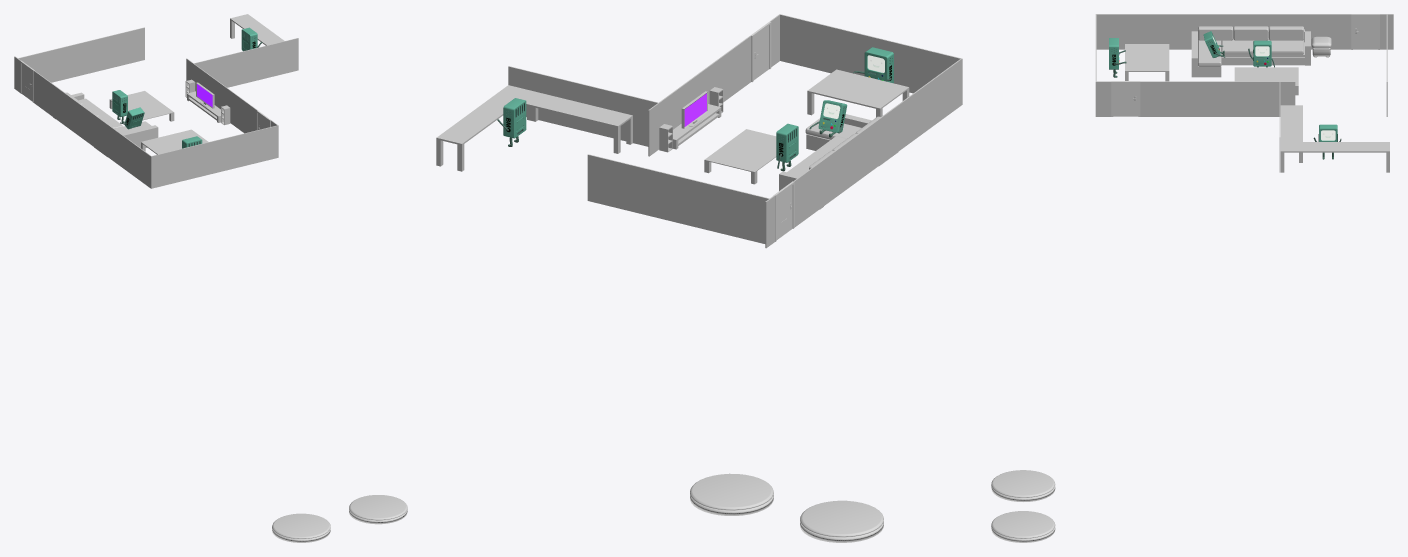
The model's file is Appartement - Back-up.glb.
The picture shows the model from 3 angles, left to right: view 1: azimuth 30°, elevation 25°; view 2: azimuth 150°, elevation 25°; view 3: azimuth 270°, elevation 25°; orthographic projection. The views are drawn at different scales.
Parts seen in each view (by area): view 1: Mur, Plaque tournante, Plaque tournante.001, Canape, Table basse, Table, Bureau 02; view 2: Mur, Table, Plaque tournante, Plaque tournante.001, Bureau 02, Table basse, Bureau 01, Canape, Куб.016, Куб.022, Куб.010, Porte (+4 smaller); view 3: Mur, Canape, Plaque tournante.001, Plaque tournante, Bureau 02, Table, Table basse, Bureau 01, Porte 02, Porte, Куб.010.
Part boxes in pixels (bbox=[...]): Mur: bbox=[14, 27, 298, 188]; Plaque tournante: bbox=[272, 513, 330, 538]; Plaque tournante.001: bbox=[349, 495, 407, 520]; Canape: bbox=[53, 92, 158, 157]; Table basse: bbox=[109, 91, 174, 121]; Table: bbox=[141, 129, 208, 154]; Bureau 02: bbox=[230, 14, 284, 45]; Mur: bbox=[508, 14, 962, 248]; Table: bbox=[807, 69, 909, 117]; Plaque tournante: bbox=[800, 500, 883, 537]; Plaque tournante.001: bbox=[690, 473, 773, 510]; Bureau 02: bbox=[436, 85, 533, 171]; Table basse: bbox=[704, 129, 776, 184]; Bureau 01: bbox=[523, 91, 632, 153]; Canape: bbox=[779, 114, 898, 209]; Куб.016: bbox=[864, 47, 893, 83]; Куб.022: bbox=[503, 98, 526, 138]; Куб.010: bbox=[776, 123, 798, 162]; Porte: bbox=[753, 26, 769, 80]; Mur: bbox=[1095, 14, 1393, 172]; Canape: bbox=[1191, 26, 1310, 77]; Plaque tournante.001: bbox=[991, 511, 1054, 538]; Plaque tournante: bbox=[991, 470, 1055, 497]; Bureau 02: bbox=[1280, 142, 1389, 172]; Table: bbox=[1125, 44, 1169, 81]; Table basse: bbox=[1234, 67, 1298, 95]; Bureau 01: bbox=[1280, 105, 1302, 162]; Porte 02: bbox=[1353, 16, 1378, 49]; Porte: bbox=[1113, 83, 1138, 116]; Куб.010: bbox=[1253, 40, 1271, 66].
Size of the model in its own units: 9.18 by 14.24 by 12.59.
